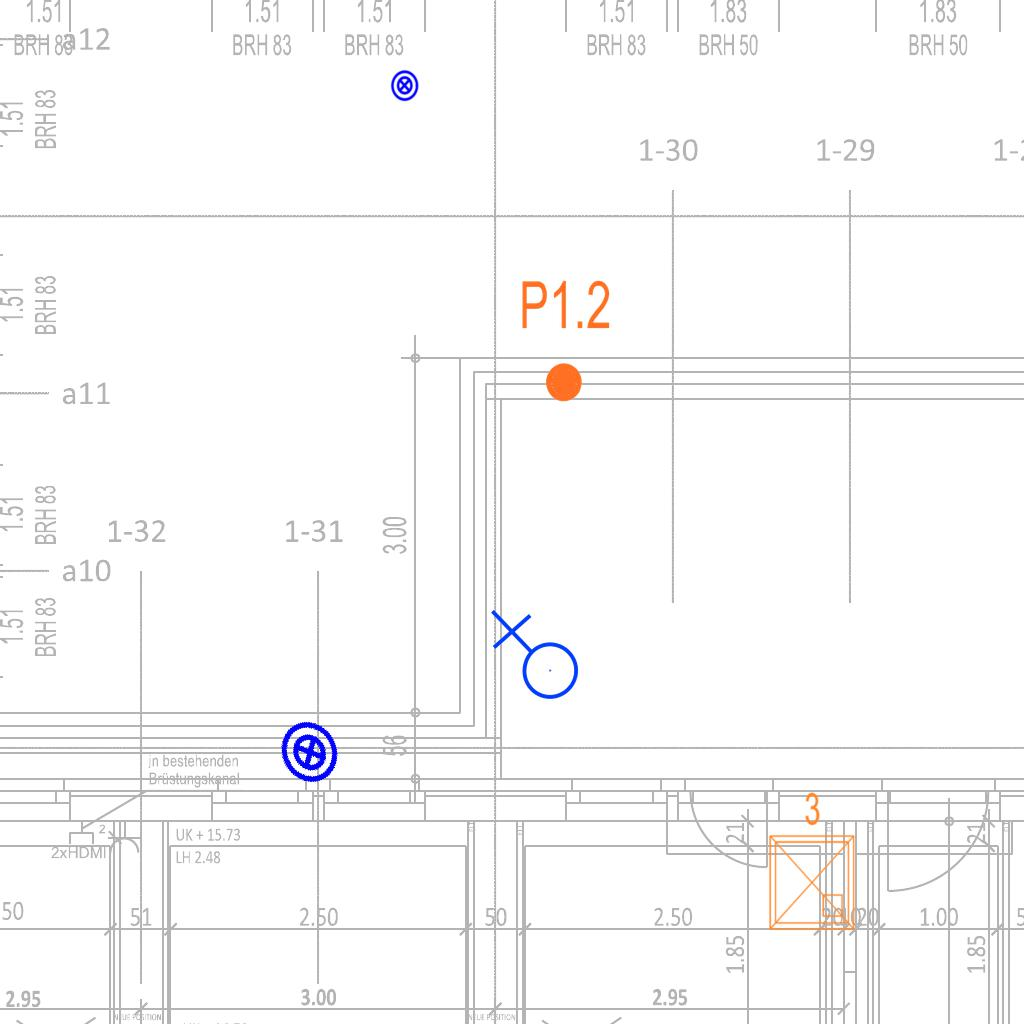Downlight_LED_Einbauleuchten_Flur: (519, 277, 612, 405)
Einbaudownlights_LED_Konferenzraeume: (758, 787, 862, 937)
Elektroanschluss_allgemein_230V_Geraeteanschlussdose_230V: (486, 609, 580, 708)
Taster_beleuchtet: (265, 707, 355, 797), (388, 69, 421, 102)
